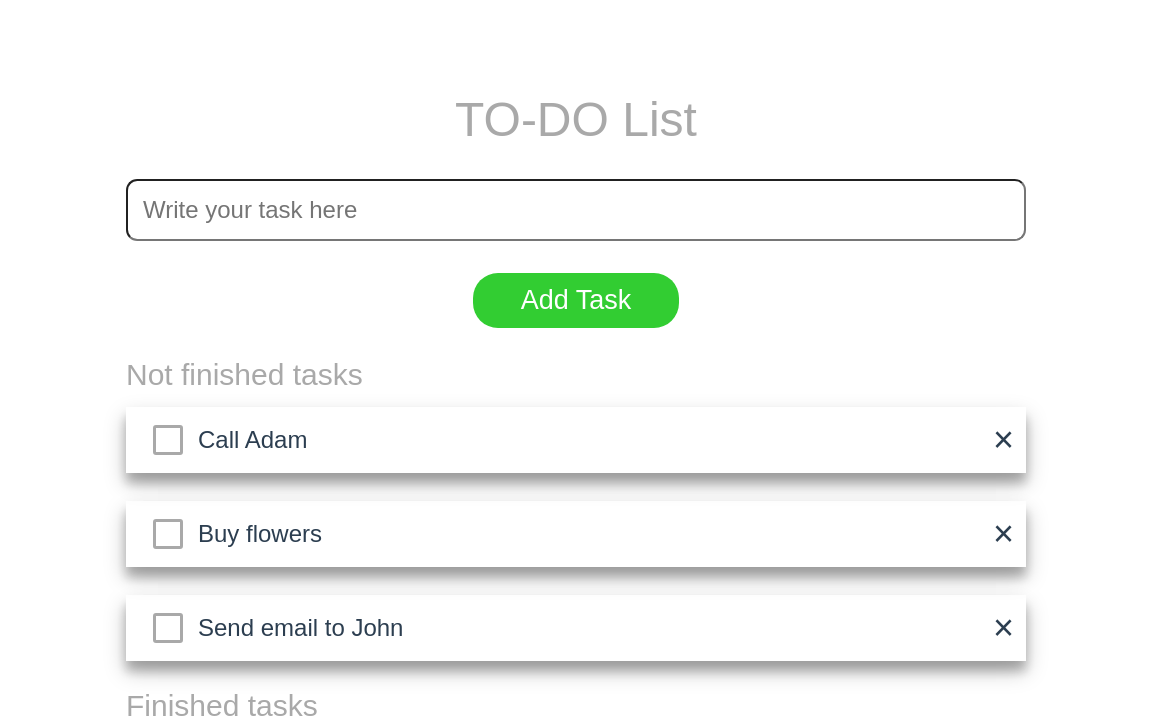
Test: Counter › should delete a task
The image size is (1152, 720).
Click the element with class "deletion" in the row of "Call Adam" at x=1004, y=441, box [993,420,1014,462]
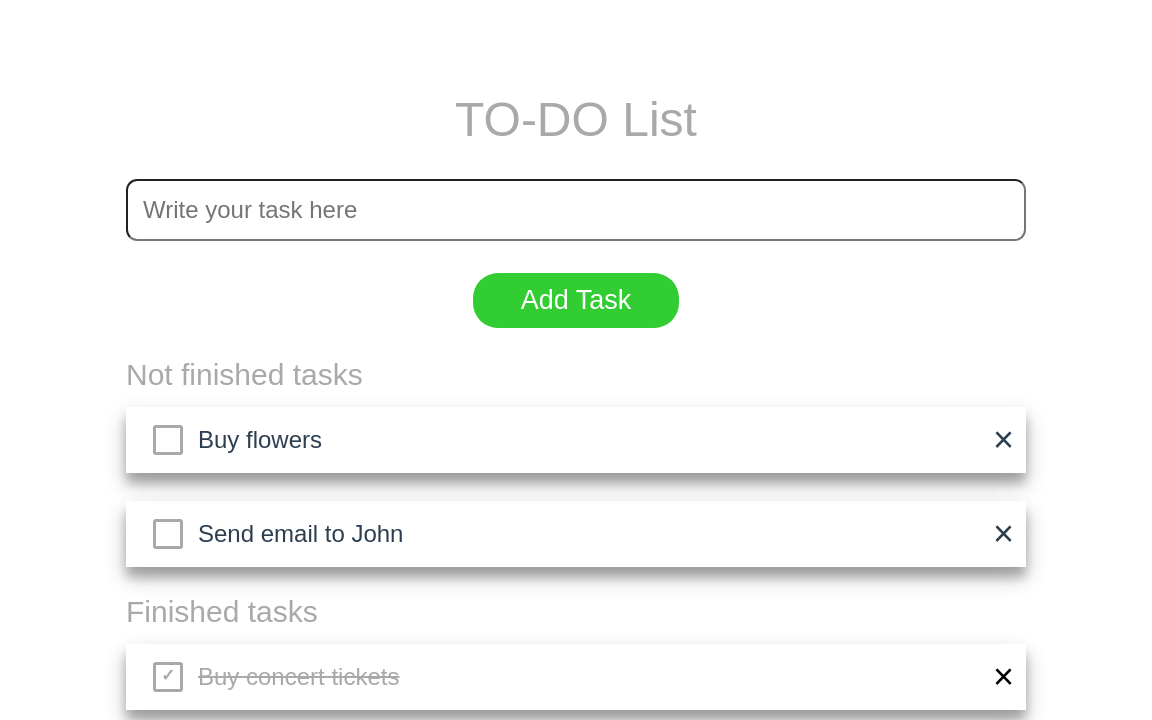
Expected: the number of elements with class "task-item" is 4
